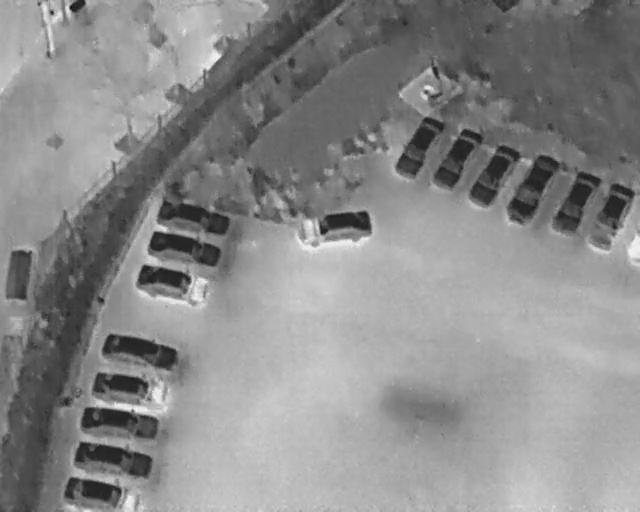Car: (500, 147, 564, 232), (544, 164, 607, 244), (427, 119, 490, 197), (463, 137, 526, 213), (390, 107, 451, 185), (579, 177, 639, 256), (129, 259, 215, 312), (68, 435, 158, 485), (97, 327, 184, 378), (144, 224, 226, 276), (88, 365, 175, 413), (153, 193, 236, 242), (292, 207, 374, 252), (77, 403, 162, 445), (62, 476, 146, 510)
